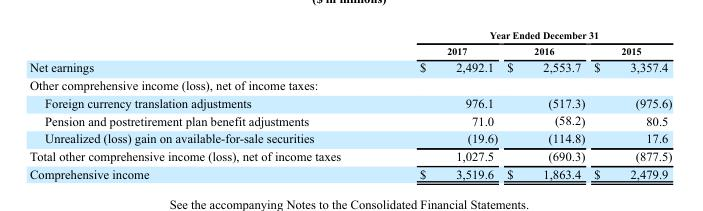table: (28, 28, 671, 180)
table column: (28, 28, 379, 180), (379, 28, 501, 180), (501, 28, 588, 180), (588, 28, 671, 180)
table column header: (28, 28, 671, 58)
table projected row header: (28, 76, 671, 93)
table row: (28, 58, 671, 76), (28, 93, 671, 111), (28, 111, 671, 129), (28, 146, 671, 164), (28, 76, 671, 93), (28, 129, 671, 146), (28, 42, 671, 58), (28, 164, 671, 180), (28, 28, 671, 42)
table spanning cell: (379, 28, 671, 42)
